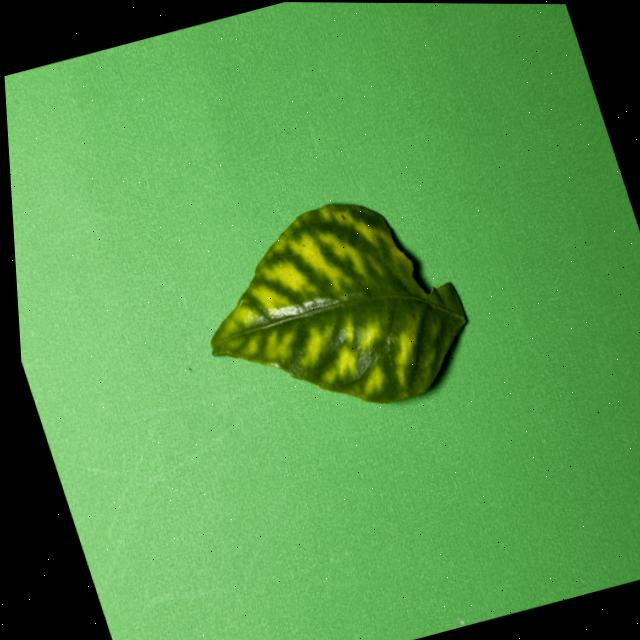greening: (211, 203, 466, 401)
